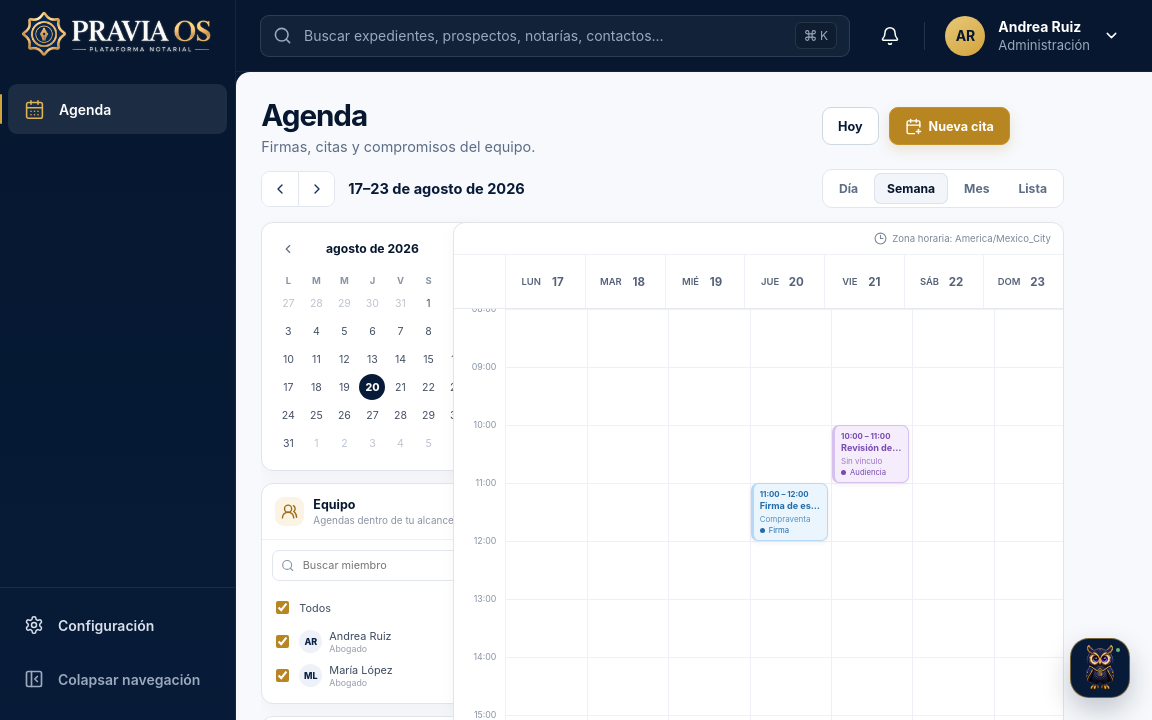
Scenario: Agenda › advierte conflictos sin bloquear el guardado permitido
This screenshot has width=1152, height=720.
Click the button "Nueva cita" at {"x": 949, "y": 126}, box [888,107,1010,145]
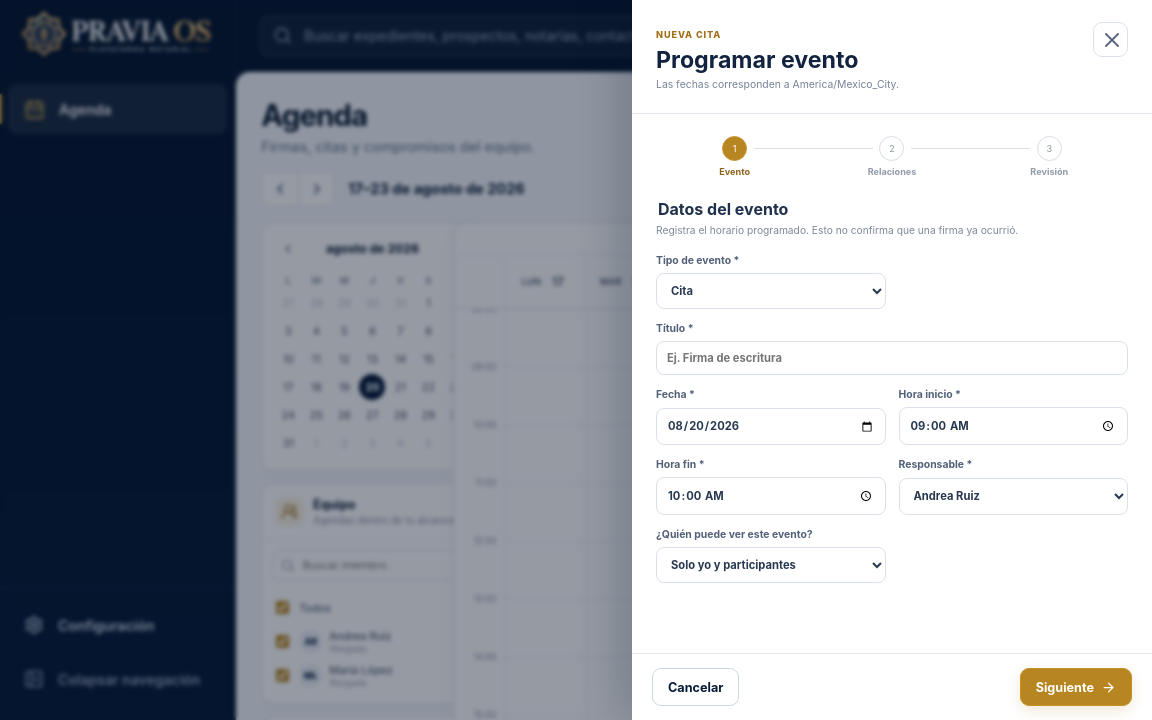
Type "Reunión de preparación" into the field labelled "Título *" at {"x": 892, "y": 358}, box [656,341,1128,375]
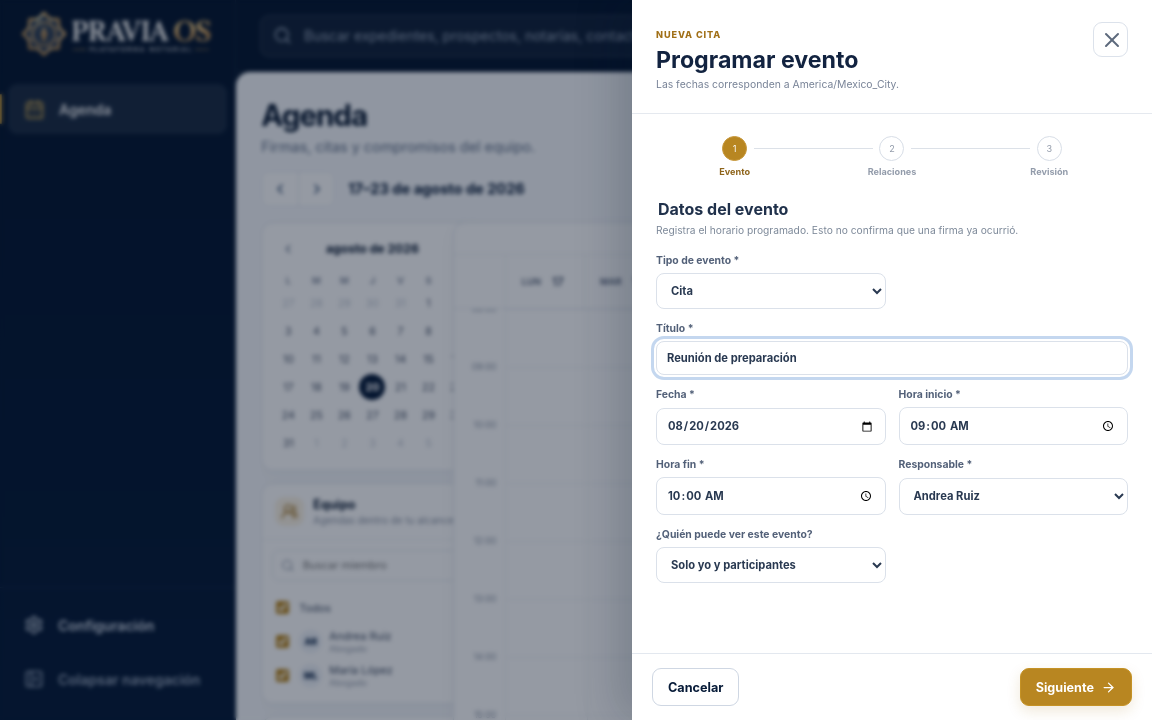
Click the button "Siguiente" at {"x": 1076, "y": 687}, box [1020,668,1132,706]
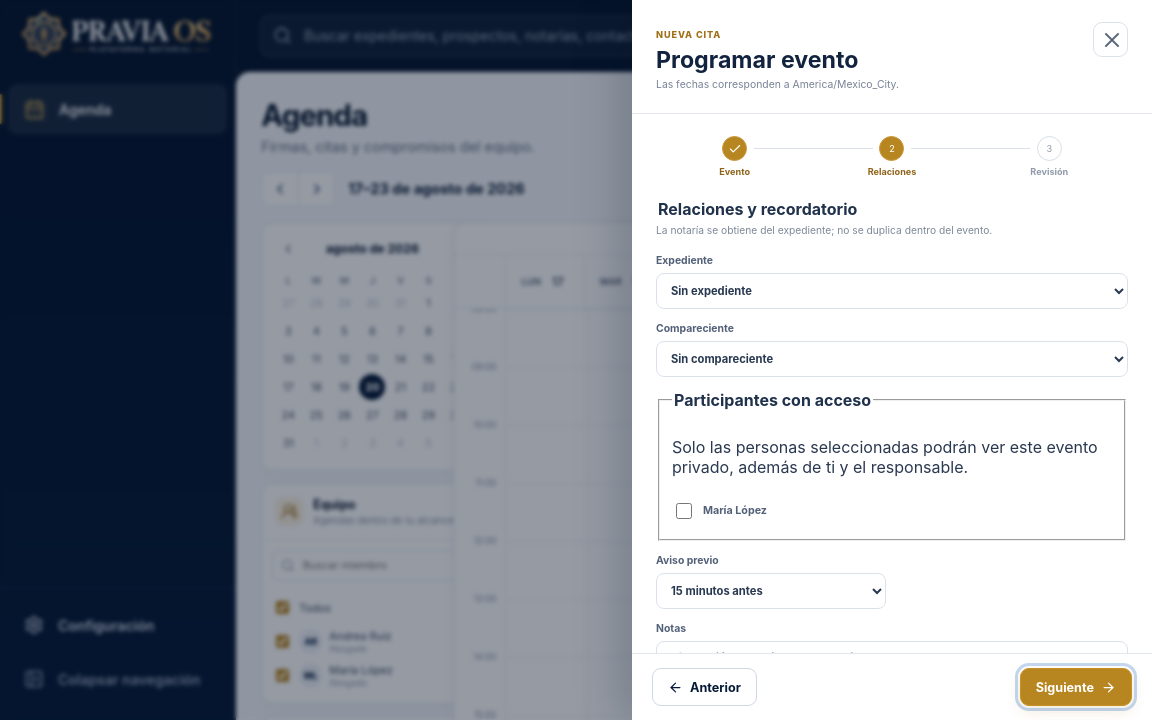
Click the button "Siguiente" at {"x": 1076, "y": 687}, box [1020,668,1132,706]
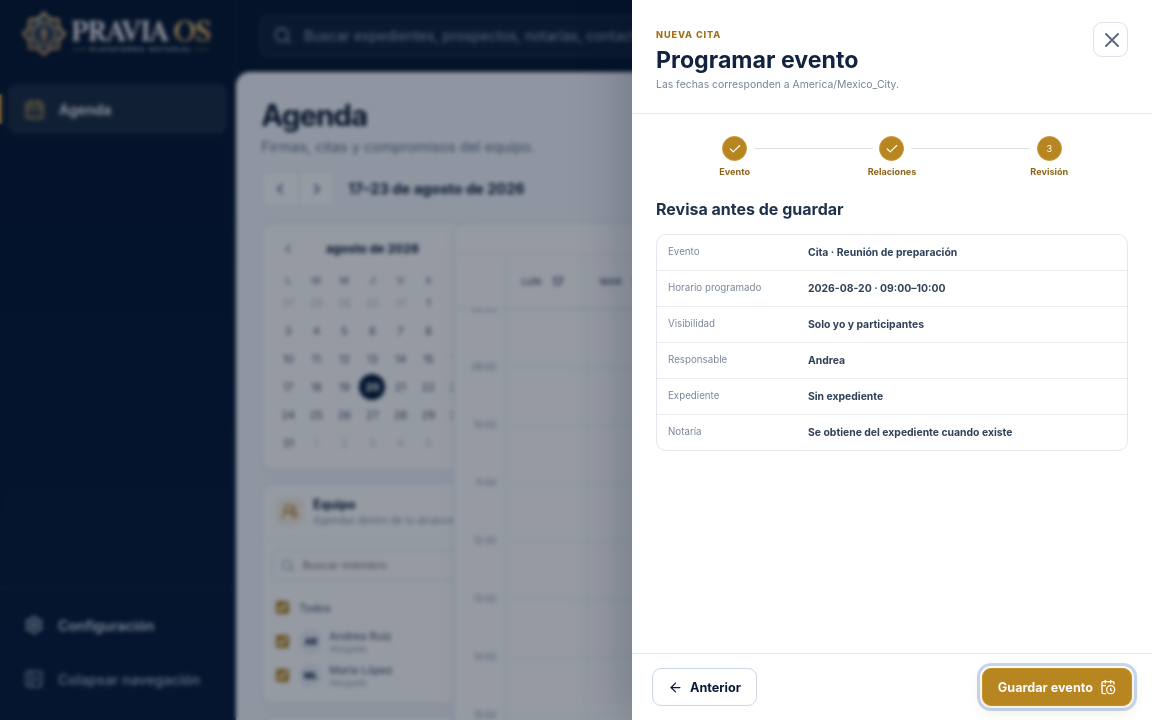
Click the button "Guardar evento" at {"x": 1057, "y": 687}, box [982,668,1132,706]
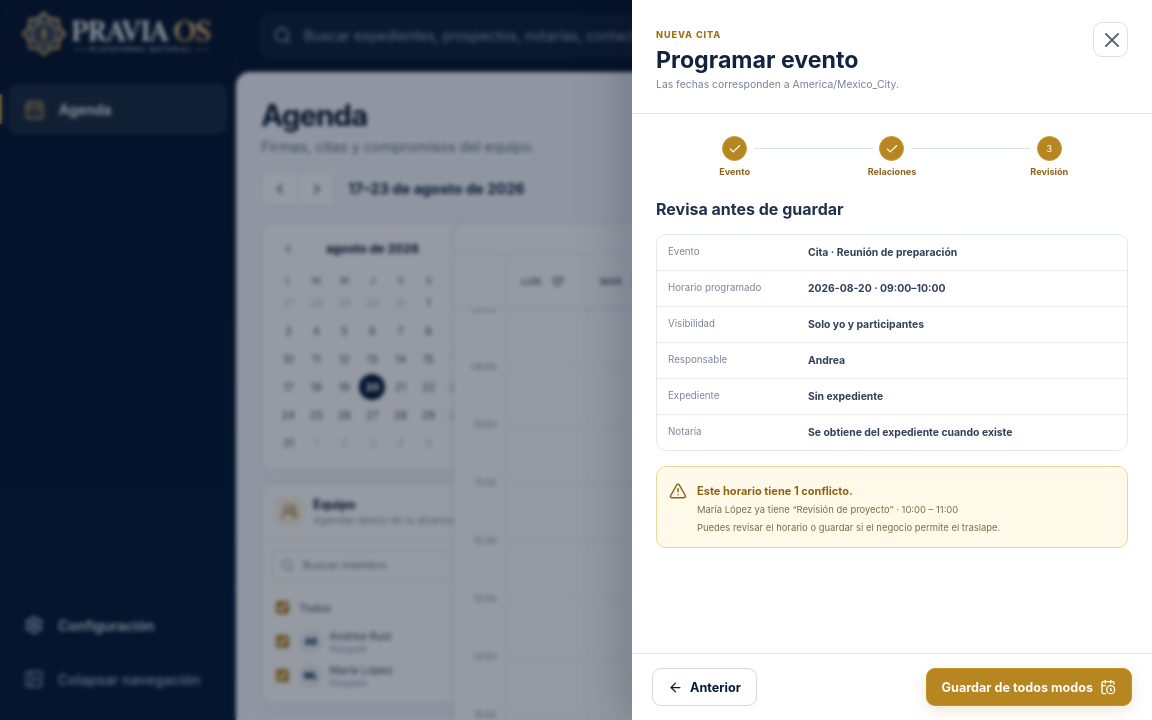
Expected: the text "Este horario tiene 1 conflicto." is shown, [697,484,853,498]
Expected: the button "Guardar de todos modos" is shown, [926,668,1132,706]
